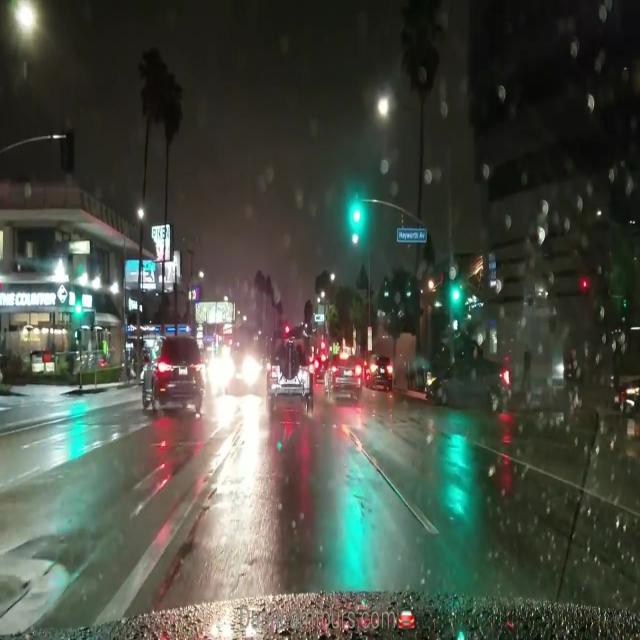Car: (141, 332, 204, 408), (323, 353, 356, 398)
